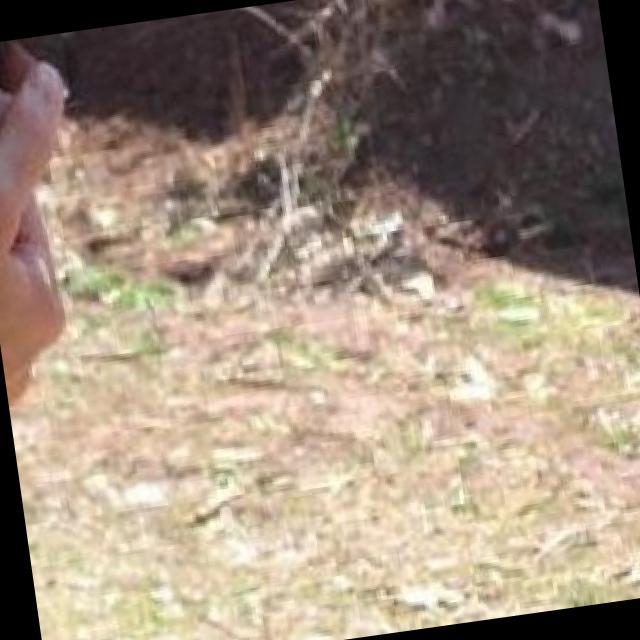Guns: (0, 10, 257, 301)
